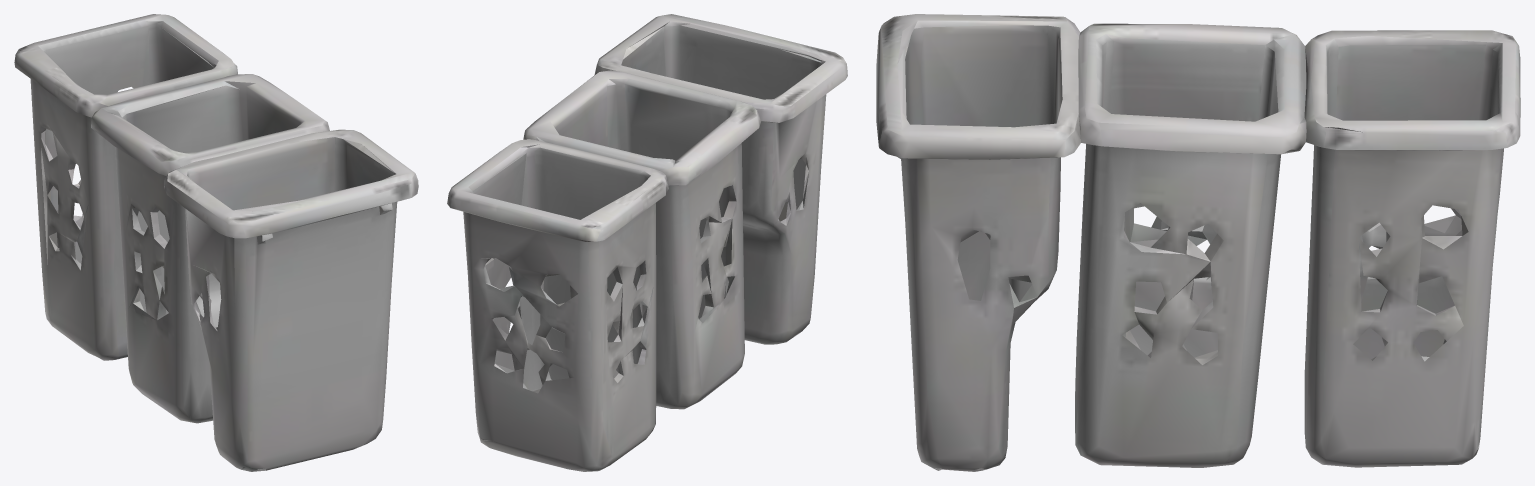
File: bins.glb
The picture shows the model from 3 angles, left to right: view 1: azimuth 30°, elevation 25°; view 2: azimuth 150°, elevation 25°; view 3: azimuth 270°, elevation 25°; orthographic projection. The views are drawn at different scales.
Parts seen in each view (by area): view 1: bins; view 2: bins; view 3: bins.
Boxes of the visible parts, box(x1,y1,x2,y2) form: bins: box(14, 14, 418, 471); bins: box(447, 14, 847, 471); bins: box(876, 14, 1520, 471).
Bounding box in the file's own units: 0.7503 × 0.9999 × 1.61.
Materials: 1 (1 with a texture image).
